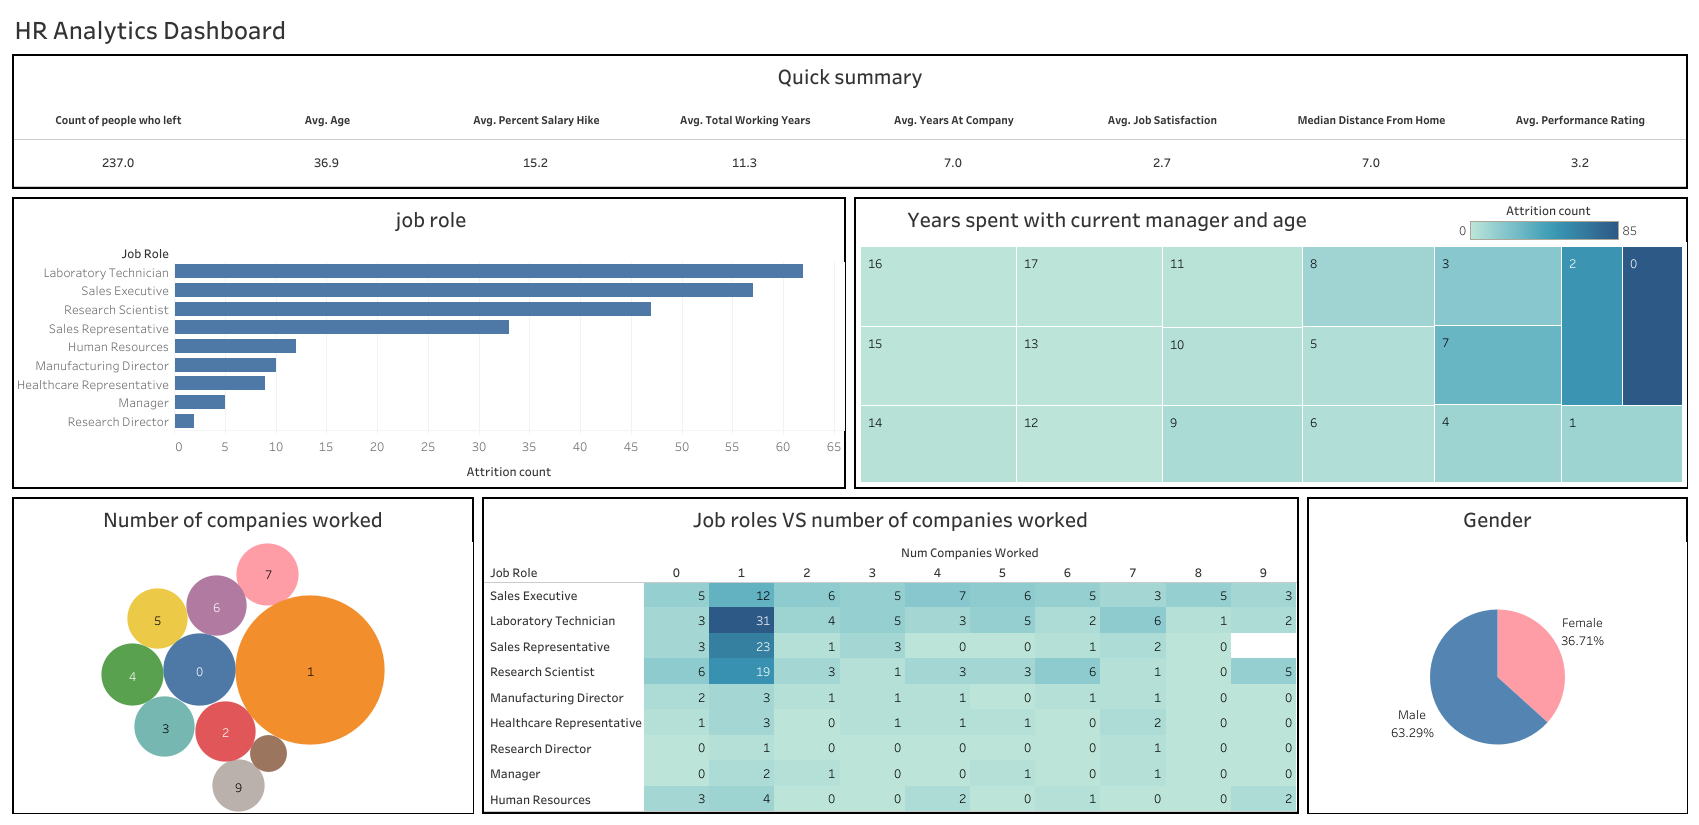

What the dashboard file says about the page in this screenshot:
{"tool":"tableau","page":{"name":"Dashboard 1","canvas":[1000,1000],"units":"permille","ordinal":0},"visuals":[{"type":"title","box":[4.7,9,990.6,46.2]},{"type":"worksheet","title":"Sheet 1","mark":"Automatic","box":[4.7,55.2,990.6,174.1]},{"type":"worksheet","title":"Sheet 2","mark":"Automatic","rows":["JobRole"],"cols":["Calculation_392094689816809476"],"box":[4.7,229.2,495.2,365.5]},{"type":"worksheet","title":"Sheet 3","mark":"Automatic","box":[499.9,229.2,495.4,365.5]},{"type":"legend","title":"Sheet 3","param":"[federated.1inj39b14se3qj1c6nj3h0kqe4bh].[sum:Calculation_392094689816809476:qk]","box":[856,238.7,109.8,52.9]},{"type":"worksheet","title":"Sheet 4","mark":"Circle","box":[4.7,594.7,276.4,396.2]},{"type":"worksheet","title":"Sheet 6","mark":"Square","rows":["JobRole"],"cols":["NumCompaniesWorked"],"box":[281.2,594.7,485.3,396.2]},{"type":"worksheet","title":"Sheet 5","mark":"Pie","box":[766.5,594.7,228.8,396.2]}]}

Visuals, with their boxes on the dashboard's canvas, which has no fixed pixel size, in thousandths of its width and height (x1, y1, x2, y2). These are canvas units, not pixel positions in the 1699x825 screenshot, which may show the page scaled, cropped or inside an application window:
title: [5, 9, 995, 55]
"Sheet 1" worksheet: [5, 55, 995, 229]
"Sheet 2" worksheet: [5, 229, 500, 595]
"Sheet 3" worksheet: [500, 229, 995, 595]
"Sheet 3" legend: [856, 239, 966, 292]
"Sheet 4" worksheet (Circle marks): [5, 595, 281, 991]
"Sheet 6" worksheet (Square marks): [281, 595, 766, 991]
"Sheet 5" worksheet (Pie marks): [766, 595, 995, 991]
